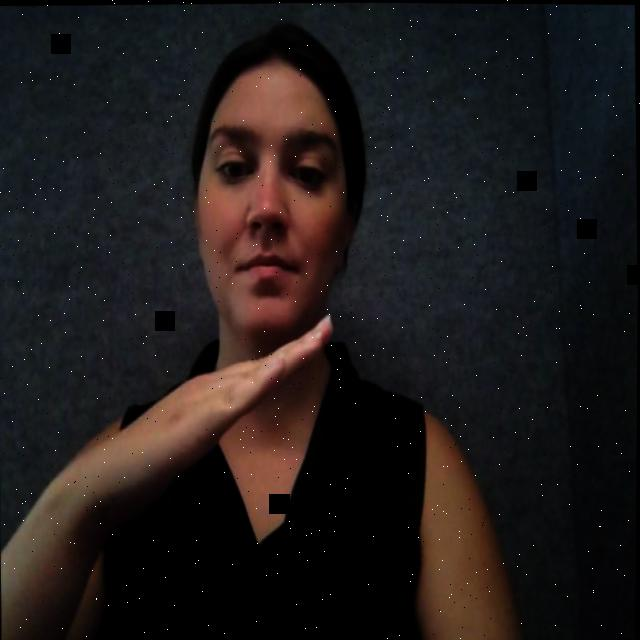Paper: (82, 314, 356, 514)
